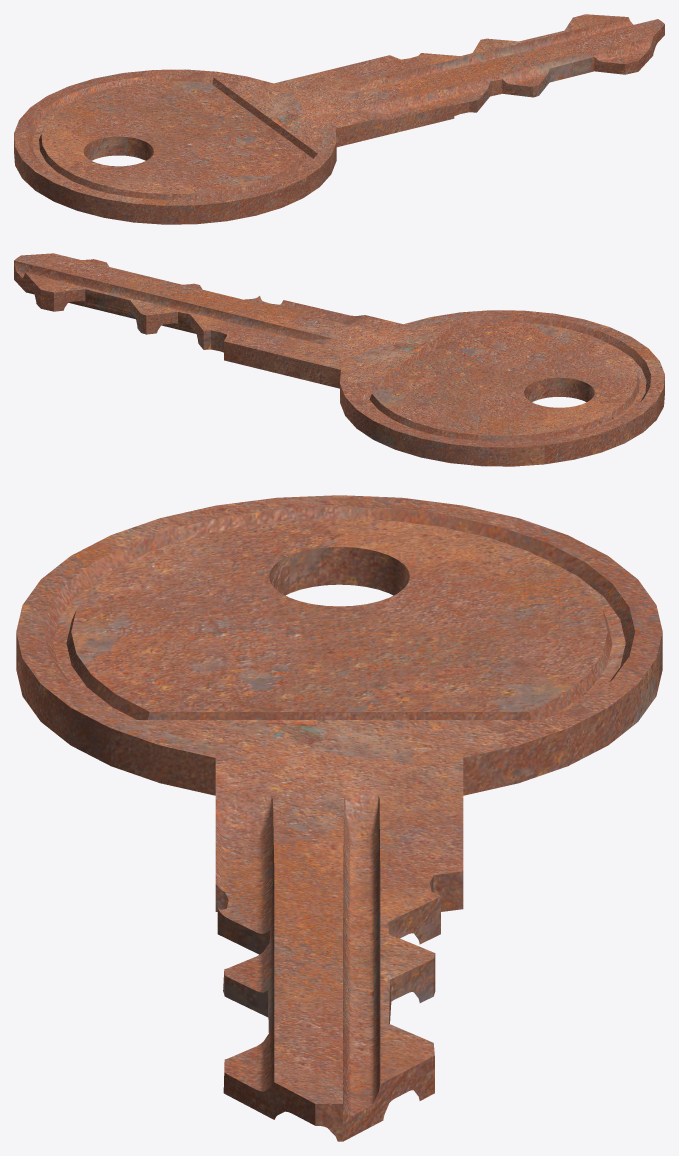
Rendered from Key.glb.
3 renders of one model, top to bottom at view 1: azimuth 30°, elevation 25°; view 2: azimuth 150°, elevation 25°; view 3: azimuth 270°, elevation 25°, orthographic. The views are drawn at different scales.
Parts seen in each view (by area): view 1: Key; view 2: Key; view 3: Key.
Boxes of the visible parts, x1,y1,x2,y2 form: Key: (14, 14, 664, 224); Key: (14, 253, 664, 466); Key: (16, 495, 662, 1141).
Size of the model in its own units: 0.2978 by 0.00863 by 0.1336.
Materials: 1 (1 with a texture image).
